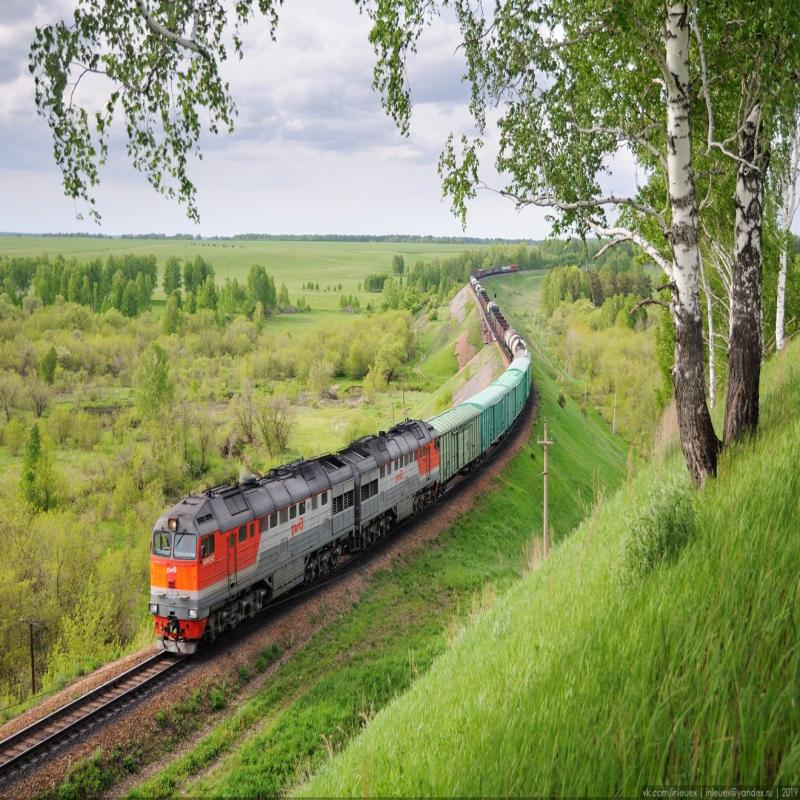train: (141, 415, 363, 671), (338, 387, 448, 572), (432, 367, 491, 496)
